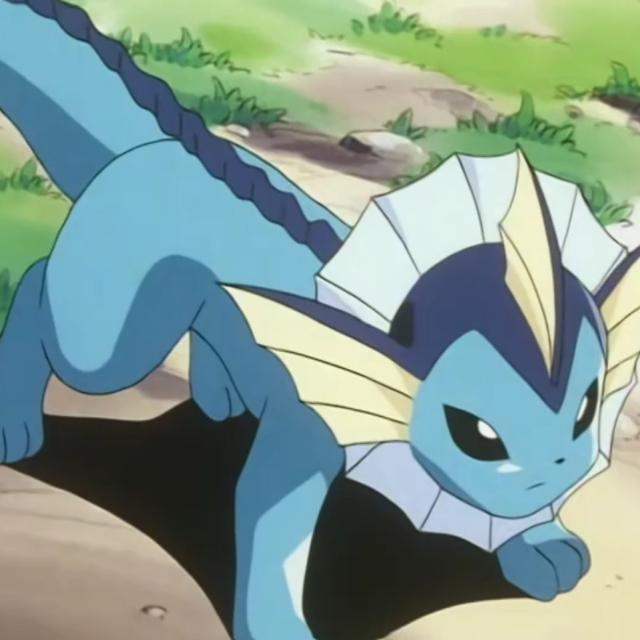Vaporeon: (9, 124, 640, 596)
